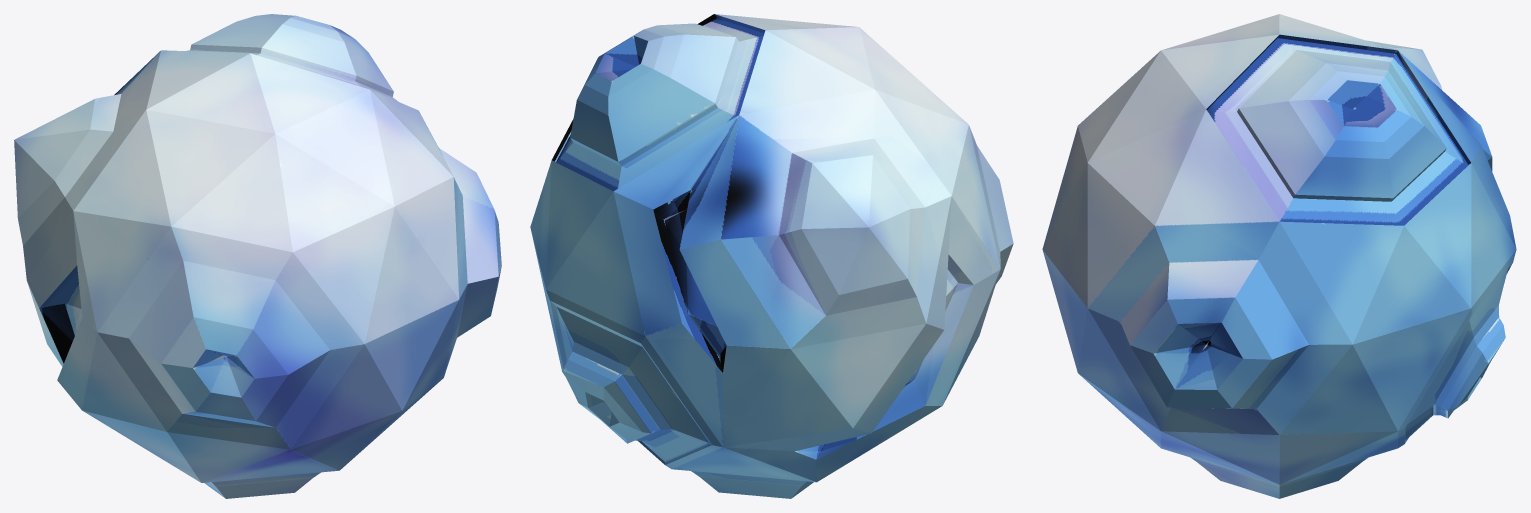
File: moon.fbx
3 views of the same model, side by side, from view 1: azimuth 30°, elevation 25°; view 2: azimuth 150°, elevation 25°; view 3: azimuth 270°, elevation 25° (orthographic). The views are drawn at different scales.
Parts seen in each view (by area): view 1: Icosphere; view 2: Icosphere; view 3: Icosphere.
Boxes of the visible parts, box(x1,y1,x2,y2) form: Icosphere: box(14, 14, 501, 498); Icosphere: box(530, 14, 1013, 498); Icosphere: box(1042, 14, 1516, 498).
Size of the model in its own units: 2.05 by 2.07 by 2.
1 material, 1 textured.
